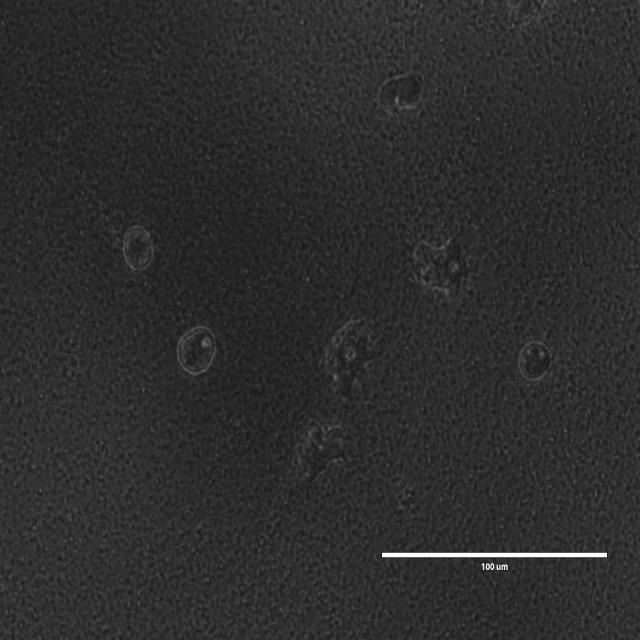Amoeba: (319, 315, 388, 397), (413, 236, 473, 304), (295, 418, 350, 480), (177, 327, 215, 376), (381, 71, 424, 114), (515, 335, 553, 383), (495, 0, 547, 34), (122, 224, 156, 273)
